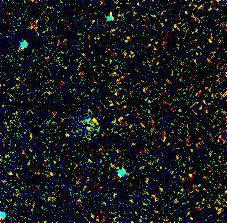star: (84, 104, 114, 134)
